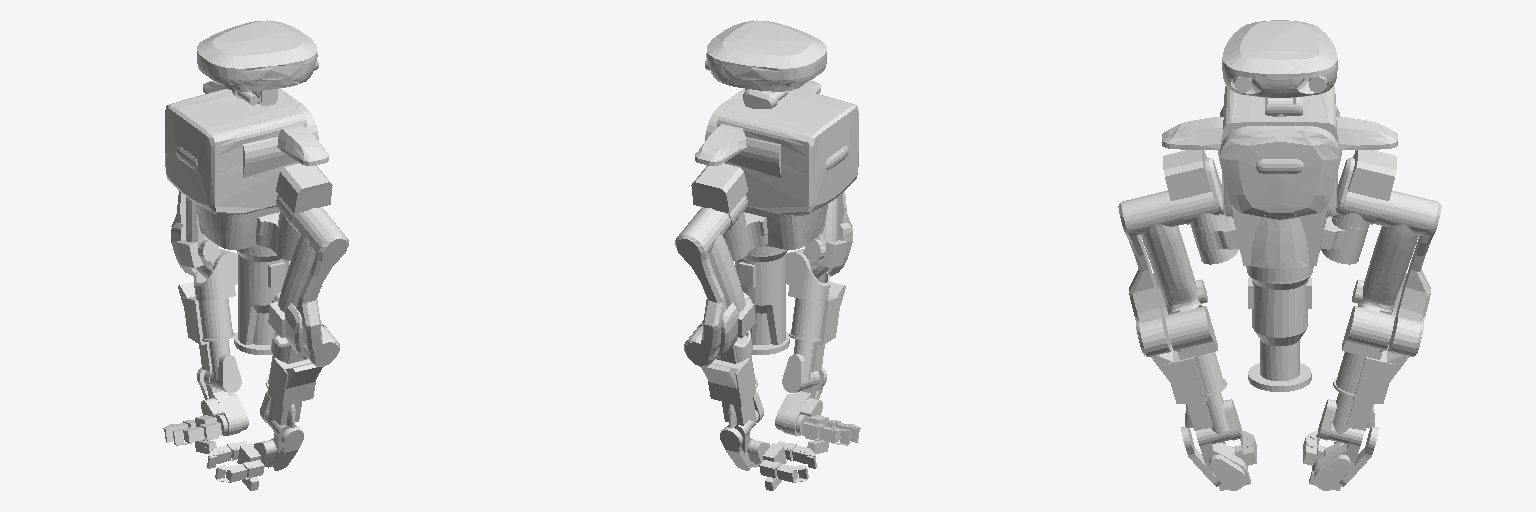
--- What the picture shows (computed from the rendered views, not written in the file) ---
Views: 3 orthographic renders of the robot side by side, from view 1: azimuth 30°, elevation 25°; view 2: azimuth 150°, elevation 25°; view 3: azimuth 270°, elevation 25°.
Robot: HiroNX — 24 links, 23 joints (23 revolute); root link WAIST; default pose: every joint at zero.
Visible links, largest first — view 1: CHEST_JOINT0_Link, HEAD_JOINT1_Link, RARM_JOINT1_Link, WAIST, LARM_JOINT2_Link, RARM_JOINT0_Link, RARM_JOINT2_Link, LARM_JOINT1_Link, LARM_JOINT4_Link, LARM_JOINT3_Link, RARM_JOINT4_Link, RARM_JOINT3_Link (+2 smaller); view 2: CHEST_JOINT0_Link, LARM_JOINT1_Link, HEAD_JOINT1_Link, WAIST, RARM_JOINT2_Link, LARM_JOINT0_Link, LARM_JOINT2_Link, RARM_JOINT1_Link, RARM_JOINT4_Link, RARM_JOINT3_Link, LARM_JOINT4_Link, LARM_JOINT3_Link (+3 smaller); view 3: CHEST_JOINT0_Link, LARM_JOINT1_Link, RARM_JOINT1_Link, HEAD_JOINT1_Link, WAIST, LARM_JOINT0_Link, RARM_JOINT0_Link, LARM_JOINT2_Link, RARM_JOINT2_Link, LARM_JOINT4_Link, RARM_JOINT4_Link, LARM_JOINT3_Link (+2 smaller).
Boxes of the visible links, <box> form: CHEST_JOINT0_Link: <box>165,80,328,260</box>; HEAD_JOINT1_Link: <box>197,20,318,106</box>; RARM_JOINT1_Link: <box>268,207,348,366</box>; WAIST: <box>234,250,288,354</box>; LARM_JOINT2_Link: <box>178,252,237,344</box>; RARM_JOINT0_Link: <box>276,163,332,239</box>; RARM_JOINT2_Link: <box>268,330,322,405</box>; LARM_JOINT1_Link: <box>171,191,229,278</box>; LARM_JOINT4_Link: <box>197,367,248,435</box>; LARM_JOINT3_Link: <box>199,332,241,392</box>; RARM_JOINT4_Link: <box>254,423,303,470</box>; RARM_JOINT3_Link: <box>260,377,301,430</box>; CHEST_JOINT0_Link: <box>695,80,858,260</box>; LARM_JOINT1_Link: <box>675,207,755,366</box>; HEAD_JOINT1_Link: <box>705,20,826,91</box>; WAIST: <box>735,250,789,354</box>; RARM_JOINT2_Link: <box>786,252,845,344</box>; LARM_JOINT0_Link: <box>691,163,747,239</box>; LARM_JOINT2_Link: <box>701,330,755,405</box>; RARM_JOINT1_Link: <box>794,191,852,278</box>; RARM_JOINT4_Link: <box>775,367,826,435</box>; RARM_JOINT3_Link: <box>782,332,824,392</box>; LARM_JOINT4_Link: <box>720,423,769,470</box>; LARM_JOINT3_Link: <box>722,377,763,430</box>; CHEST_JOINT0_Link: <box>1162,86,1397,281</box>; LARM_JOINT1_Link: <box>1349,190,1441,356</box>; RARM_JOINT1_Link: <box>1118,190,1210,356</box>; HEAD_JOINT1_Link: <box>1222,20,1337,114</box>; WAIST: <box>1247,272,1312,391</box>; LARM_JOINT0_Link: <box>1333,150,1396,238</box>; RARM_JOINT0_Link: <box>1163,150,1226,238</box>; LARM_JOINT2_Link: <box>1336,306,1408,403</box>; RARM_JOINT2_Link: <box>1151,306,1223,403</box>; LARM_JOINT4_Link: <box>1313,426,1378,490</box>; RARM_JOINT4_Link: <box>1181,426,1246,490</box>; LARM_JOINT3_Link: <box>1317,379,1374,443</box>.
Bounding box of the posed robot: 0.2867 × 0.6096 × 0.9692 m (x, y, z).
Meshes: 24 distinct files referenced, 24 mesh visuals loaded (24 Collada DAE).

The robot description file, URDF, robot "HiroNX":
<?xml version="1.0"?>
<robot name="HiroNX"
       xmlns:xi="http://www.w3.org/2001/XInclude"
       xmlns:gazebo="http://playerstage.sourceforge.net/gazebo/xmlschema/#gz"
       xmlns:model="http://playerstage.sourceforge.net/gazebo/xmlschema/#model"
       xmlns:sensor="http://playerstage.sourceforge.net/gazebo/xmlschema/#sensor"
       xmlns:body="http://playerstage.sourceforge.net/gazebo/xmlschema/#body"
       xmlns:geom="http://playerstage.sourceforge.net/gazebo/xmlschema/#geom"
       xmlns:joint="http://playerstage.sourceforge.net/gazebo/xmlschema/#joint"
       xmlns:interface="http://playerstage.sourceforge.net/gazebo/xmlschema/#interface"
       xmlns:rendering="http://playerstage.sourceforge.net/gazebo/xmlschema/#rendering"
       xmlns:renderable="http://playerstage.sourceforge.net/gazebo/xmlschema/#renderable"
       xmlns:controller="http://playerstage.sourceforge.net/gazebo/xmlschema/#controller"
       xmlns:physics="http://playerstage.sourceforge.net/gazebo/xmlschema/#physics">
  <link name="WAIST">
    <visual>
      <origin xyz="0 0 0" rpy="0 -0 0"/>
      <geometry>
        <mesh filename="package://hironx_moveit_config/models/meshes/WAIST_mesh.dae" scale="1 1 1" />
      </geometry>
    </visual>
    <collision>
      <origin xyz="0 0 0" rpy="0 -0 0"/>
      <geometry>
        <mesh filename="package://hironx_moveit_config/models/meshes/WAIST_mesh.dae" scale="1 1 1" />
      </geometry>
    </collision>
    <inertial>
      <mass value="0" />
      <origin xyz="0 0 0" rpy="0 -0 0"/>
      <inertia ixx="0" ixy="0" ixz="0" iyy="0" iyz="0" izz="0"/>
    </inertial>
  </link>
  <link name="CHEST_JOINT0_Link">
    <visual>
      <origin xyz="0 0 0" rpy="0 -0 0"/>
      <geometry>
        <mesh filename="package://hironx_moveit_config/models/meshes/CHEST_JOINT0_Link_mesh.dae" scale="1 1 1" />
      </geometry>
    </visual>
    <collision>
      <origin xyz="0 0 0" rpy="0 -0 0"/>
      <geometry>
        <mesh filename="package://hironx_moveit_config/models/meshes/CHEST_JOINT0_Link_mesh.dae" scale="1 1 1" />
      </geometry>
    </collision>
    <inertial>
      <mass value="0" />
      <origin xyz="0 0 0" rpy="0 -0 0"/>
      <inertia ixx="0" ixy="0" ixz="0" iyy="0" iyz="0" izz="0"/>
    </inertial>
  </link>
  <link name="HEAD_JOINT0_Link">
    <visual>
      <origin xyz="0 0 0.5695" rpy="0 -0 0"/>
      <geometry>
        <mesh filename="package://hironx_moveit_config/models/meshes/HEAD_JOINT0_Link_mesh.dae" scale="1 1 1" />
      </geometry>
    </visual>
    <collision>
      <origin xyz="0 0 0.5695" rpy="0 -0 0"/>
      <geometry>
        <mesh filename="package://hironx_moveit_config/models/meshes/HEAD_JOINT0_Link_mesh.dae" scale="1 1 1" />
      </geometry>
    </collision>
    <inertial>
      <mass value="0.317929" />
      <origin xyz="-2.292e-05 0.00547848 -0.00784016" rpy="0 -0 0"/>
      <inertia ixx="0" ixy="0" ixz="0" iyy="0" iyz="0" izz="0"/>
    </inertial>
  </link>
  <link name="HEAD_JOINT1_Link">
    <visual>
      <origin xyz="0 0 0" rpy="0 -0 0"/>
      <geometry>
        <mesh filename="package://hironx_moveit_config/models/meshes/HEAD_JOINT1_Link_mesh.dae" scale="1 1 1" />
      </geometry>
    </visual>
    <collision>
      <origin xyz="0 0 0" rpy="0 -0 0"/>
      <geometry>
        <mesh filename="package://hironx_moveit_config/models/meshes/HEAD_JOINT1_Link_mesh.dae" scale="1 1 1" />
      </geometry>
    </collision>
    <inertial>
      <mass value="0.0808593" />
      <origin xyz="5.02e-06 -0.0166777 0.0163153" rpy="0 -0 0"/>
      <inertia ixx="0" ixy="0" ixz="0" iyy="0" iyz="0" izz="0"/>
    </inertial>
  </link>
  <link name="LARM_JOINT0_Link">
    <visual>
      <origin xyz="0 0.145 0.370296" rpy="-0.261799 0 0"/>
      <geometry>
        <mesh filename="package://hironx_moveit_config/models/meshes/LARM_JOINT0_Link_mesh.dae" scale="1 1 1" />
      </geometry>
    </visual>
    <collision>
      <origin xyz="0 0.145 0.370296" rpy="-0.261799 0 0"/>
      <geometry>
        <mesh filename="package://hironx_moveit_config/models/meshes/LARM_JOINT0_Link_mesh.dae" scale="1 1 1" />
      </geometry>
    </collision>
    <inertial>
      <mass value="1.32626" />
      <origin xyz="-0.00226388 -0.00521383 0.0156081" rpy="0 -0 0"/>
      <inertia ixx="0" ixy="0" ixz="0" iyy="0" iyz="0" izz="0"/>
    </inertial>
  </link>
  <link name="LARM_JOINT1_Link">
    <visual>
      <origin xyz="0 0 0" rpy="0 -0 0"/>
      <geometry>
        <mesh filename="package://hironx_moveit_config/models/meshes/LARM_JOINT1_Link_mesh.dae" scale="1 1 1" />
      </geometry>
    </visual>
    <collision>
      <origin xyz="0 0 0" rpy="0 -0 0"/>
      <geometry>
        <mesh filename="package://hironx_moveit_config/models/meshes/LARM_JOINT1_Link_mesh.dae" scale="1 1 1" />
      </geometry>
    </collision>
    <inertial>
      <mass value="1.14898" />
      <origin xyz="-5.236e-05 0.0583134 -0.107061" rpy="0 -0 0"/>
      <inertia ixx="0" ixy="0" ixz="0" iyy="0" iyz="0" izz="0"/>
    </inertial>
  </link>
  <link name="LARM_JOINT2_Link">
    <visual>
      <origin xyz="0 0.095 -0.25" rpy="0 -0 0"/>
      <geometry>
        <mesh filename="package://hironx_moveit_config/models/meshes/LARM_JOINT2_Link_mesh.dae" scale="1 1 1" />
      </geometry>
    </visual>
    <collision>
      <origin xyz="0 0.095 -0.25" rpy="0 -0 0"/>
      <geometry>
        <mesh filename="package://hironx_moveit_config/models/meshes/LARM_JOINT2_Link_mesh.dae" scale="1 1 1" />
      </geometry>
    </collision>
    <inertial>
      <mass value="0.577518" />
      <origin xyz="-2.254e-05 0.00167107 -0.0715116" rpy="0 -0 0"/>
      <inertia ixx="0" ixy="0" ixz="0" iyy="0" iyz="0" izz="0"/>
    </inertial>
  </link>
  <link name="LARM_JOINT3_Link">
    <visual>
      <origin xyz="-0.03 0 0" rpy="0 -0 0"/>
      <geometry>
        <mesh filename="package://hironx_moveit_config/models/meshes/LARM_JOINT3_Link_mesh.dae" scale="1 1 1" />
      </geometry>
    </visual>
    <collision>
      <origin xyz="-0.03 0 0" rpy="0 -0 0"/>
      <geometry>
        <mesh filename="package://hironx_moveit_config/models/meshes/LARM_JOINT3_Link_mesh.dae" scale="1 1 1" />
      </geometry>
    </collision>
    <inertial>
      <mass value="0.457418" />
      <origin xyz="-1.788e-05 -0.00395812 -0.202731" rpy="0 -0 0"/>
      <inertia ixx="0" ixy="0" ixz="0" iyy="0" iyz="0" izz="0"/>
    </inertial>
  </link>
  <link name="LARM_JOINT4_Link">
    <visual>
      <origin xyz="0 0 -0.235" rpy="0 -0 0"/>
      <geometry>
        <mesh filename="package://hironx_moveit_config/models/meshes/LARM_JOINT4_Link_mesh.dae" scale="1 1 1" />
      </geometry>
    </visual>
    <collision>
      <origin xyz="0 0 -0.235" rpy="0 -0 0"/>
      <geometry>
        <mesh filename="package://hironx_moveit_config/models/meshes/LARM_JOINT4_Link_mesh.dae" scale="1 1 1" />
      </geometry>
    </collision>
    <inertial>
      <mass value="0.418434" />
      <origin xyz="0.00243131 0.00379733 -0.0577036" rpy="0 -0 0"/>
      <inertia ixx="0" ixy="0" ixz="0" iyy="0" iyz="0" izz="0"/>
    </inertial>
  </link>
  <link name="LARM_JOINT5_Link">
    <visual>
      <origin xyz="-0.04 0 -0.09" rpy="0 -0 0"/>
      <geometry>
        <mesh filename="package://hironx_moveit_config/models/meshes/LARM_JOINT5_Link_mesh.dae" scale="1 1 1" />
      </geometry>
    </visual>
    <collision>
      <origin xyz="-0.04 0 -0.09" rpy="0 -0 0"/>
      <geometry>
        <mesh filename="package://hironx_moveit_config/models/meshes/LARM_JOINT5_Link_mesh.dae" scale="1 1 1" />
      </geometry>
    </collision>
    <inertial>
      <mass value="1.05156" />
      <origin xyz="-0.048476 -3.2e-06 -0.0388988" rpy="0 -0 0"/>
      <inertia ixx="0" ixy="0" ixz="0" iyy="0" iyz="0" izz="0"/>
    </inertial>
  </link>
  <link name="LHAND_JOINT0_Link">
    <visual>
      <origin xyz="-0.0299 -0.033 0" rpy="0 -0 0"/>
      <geometry>
        <mesh filename="package://hironx_moveit_config/models/meshes/LHAND_JOINT0_Link_mesh.dae" scale="1 1 1" />
      </geometry>
    </visual>
    <collision>
      <origin xyz="-0.0299 -0.033 0" rpy="0 -0 0"/>
      <geometry>
        <mesh filename="package://hironx_moveit_config/models/meshes/LHAND_JOINT0_Link_mesh.dae" scale="1 1 1" />
      </geometry>
    </collision>
    <inertial>
      <mass value="0.01" />
      <origin xyz="0 0 0" rpy="0 -0 0"/>
      <inertia ixx="0" ixy="0" ixz="0" iyy="0" iyz="0" izz="0"/>
    </inertial>
  </link>
  <link name="LHAND_JOINT1_Link">
    <visual>
      <origin xyz="-0.0419 0 0" rpy="0 -0 0"/>
      <geometry>
        <mesh filename="package://hironx_moveit_config/models/meshes/LHAND_JOINT1_Link_mesh.dae" scale="1 1 1" />
      </geometry>
    </visual>
    <collision>
      <origin xyz="-0.0419 0 0" rpy="0 -0 0"/>
      <geometry>
        <mesh filename="package://hironx_moveit_config/models/meshes/LHAND_JOINT1_Link_mesh.dae" scale="1 1 1" />
      </geometry>
    </collision>
    <inertial>
      <mass value="0.01" />
      <origin xyz="0 0 0" rpy="0 -0 0"/>
      <inertia ixx="0" ixy="0" ixz="0" iyy="0" iyz="0" izz="0"/>
    </inertial>
  </link>
  <link name="LHAND_JOINT2_Link">
    <visual>
      <origin xyz="-0.0299 0.033 0" rpy="0 -0 0"/>
      <geometry>
        <mesh filename="package://hironx_moveit_config/models/meshes/LHAND_JOINT2_Link_mesh.dae" scale="1 1 1" />
      </geometry>
    </visual>
    <collision>
      <origin xyz="-0.0299 0.033 0" rpy="0 -0 0"/>
      <geometry>
        <mesh filename="package://hironx_moveit_config/models/meshes/LHAND_JOINT2_Link_mesh.dae" scale="1 1 1" />
      </geometry>
    </collision>
    <inertial>
      <mass value="0.01" />
      <origin xyz="0 0 0" rpy="0 -0 0"/>
      <inertia ixx="0" ixy="0" ixz="0" iyy="0" iyz="0" izz="0"/>
    </inertial>
  </link>
  <link name="LHAND_JOINT3_Link">
    <visual>
      <origin xyz="-0.0419 0 0" rpy="0 -0 0"/>
      <geometry>
        <mesh filename="package://hironx_moveit_config/models/meshes/LHAND_JOINT3_Link_mesh.dae" scale="1 1 1" />
      </geometry>
    </visual>
    <collision>
      <origin xyz="-0.0419 0 0" rpy="0 -0 0"/>
      <geometry>
        <mesh filename="package://hironx_moveit_config/models/meshes/LHAND_JOINT3_Link_mesh.dae" scale="1 1 1" />
      </geometry>
    </collision>
    <inertial>
      <mass value="0.01" />
      <origin xyz="0 0 0" rpy="0 -0 0"/>
      <inertia ixx="0" ixy="0" ixz="0" iyy="0" iyz="0" izz="0"/>
    </inertial>
  </link>
  <link name="RARM_JOINT0_Link">
    <visual>
      <origin xyz="0 -0.145 0.370296" rpy="0.261799 -0 0"/>
      <geometry>
        <mesh filename="package://hironx_moveit_config/models/meshes/RARM_JOINT0_Link_mesh.dae" scale="1 1 1" />
      </geometry>
    </visual>
    <collision>
      <origin xyz="0 -0.145 0.370296" rpy="0.261799 -0 0"/>
      <geometry>
        <mesh filename="package://hironx_moveit_config/models/meshes/RARM_JOINT0_Link_mesh.dae" scale="1 1 1" />
      </geometry>
    </collision>
    <inertial>
      <mass value="1.32626" />
      <origin xyz="-0.00226388 0.00521383 0.0156081" rpy="0 -0 0"/>
      <inertia ixx="0" ixy="0" ixz="0" iyy="0" iyz="0" izz="0"/>
    </inertial>
  </link>
  <link name="RARM_JOINT1_Link">
    <visual>
      <origin xyz="0 0 0" rpy="0 -0 0"/>
      <geometry>
        <mesh filename="package://hironx_moveit_config/models/meshes/RARM_JOINT1_Link_mesh.dae" scale="1 1 1" />
      </geometry>
    </visual>
    <collision>
      <origin xyz="0 0 0" rpy="0 -0 0"/>
      <geometry>
        <mesh filename="package://hironx_moveit_config/models/meshes/RARM_JOINT1_Link_mesh.dae" scale="1 1 1" />
      </geometry>
    </collision>
    <inertial>
      <mass value="1.14898" />
      <origin xyz="-5.236e-05 -0.0583134 -0.107061" rpy="0 -0 0"/>
      <inertia ixx="0" ixy="0" ixz="0" iyy="0" iyz="0" izz="0"/>
    </inertial>
  </link>
  <link name="RARM_JOINT2_Link">
    <visual>
      <origin xyz="0 -0.095 -0.25" rpy="0 -0 0"/>
      <geometry>
        <mesh filename="package://hironx_moveit_config/models/meshes/RARM_JOINT2_Link_mesh.dae" scale="1 1 1" />
      </geometry>
    </visual>
    <collision>
      <origin xyz="0 -0.095 -0.25" rpy="0 -0 0"/>
      <geometry>
        <mesh filename="package://hironx_moveit_config/models/meshes/RARM_JOINT2_Link_mesh.dae" scale="1 1 1" />
      </geometry>
    </collision>
    <inertial>
      <mass value="0.577518" />
      <origin xyz="-2.254e-05 -0.00167107 -0.0715116" rpy="0 -0 0"/>
      <inertia ixx="0" ixy="0" ixz="0" iyy="0" iyz="0" izz="0"/>
    </inertial>
  </link>
  <link name="RARM_JOINT3_Link">
    <visual>
      <origin xyz="-0.03 0 0" rpy="0 -0 0"/>
      <geometry>
        <mesh filename="package://hironx_moveit_config/models/meshes/RARM_JOINT3_Link_mesh.dae" scale="1 1 1" />
      </geometry>
    </visual>
    <collision>
      <origin xyz="-0.03 0 0" rpy="0 -0 0"/>
      <geometry>
        <mesh filename="package://hironx_moveit_config/models/meshes/RARM_JOINT3_Link_mesh.dae" scale="1 1 1" />
      </geometry>
    </collision>
    <inertial>
      <mass value="0.457418" />
      <origin xyz="-1.788e-05 0.00395812 -0.202731" rpy="0 -0 0"/>
      <inertia ixx="0" ixy="0" ixz="0" iyy="0" iyz="0" izz="0"/>
    </inertial>
  </link>
  <link name="RARM_JOINT4_Link">
    <visual>
      <origin xyz="0 0 -0.235" rpy="0 -0 0"/>
      <geometry>
        <mesh filename="package://hironx_moveit_config/models/meshes/RARM_JOINT4_Link_mesh.dae" scale="1 1 1" />
      </geometry>
    </visual>
    <collision>
      <origin xyz="0 0 -0.235" rpy="0 -0 0"/>
      <geometry>
        <mesh filename="package://hironx_moveit_config/models/meshes/RARM_JOINT4_Link_mesh.dae" scale="1 1 1" />
      </geometry>
    </collision>
    <inertial>
      <mass value="0.418434" />
      <origin xyz="0.00243131 -0.00379733 -0.0577036" rpy="0 -0 0"/>
      <inertia ixx="0" ixy="0" ixz="0" iyy="0" iyz="0" izz="0"/>
    </inertial>
  </link>
  <link name="RARM_JOINT5_Link">
    <visual>
      <origin xyz="-0.04 0 -0.09" rpy="0 -0 0"/>
      <geometry>
        <mesh filename="package://hironx_moveit_config/models/meshes/RARM_JOINT5_Link_mesh.dae" scale="1 1 1" />
      </geometry>
    </visual>
    <collision>
      <origin xyz="-0.04 0 -0.09" rpy="0 -0 0"/>
      <geometry>
        <mesh filename="package://hironx_moveit_config/models/meshes/RARM_JOINT5_Link_mesh.dae" scale="1 1 1" />
      </geometry>
    </collision>
    <inertial>
      <mass value="1.05156" />
      <origin xyz="-0.048476 3.2e-06 -0.0388988" rpy="0 -0 0"/>
      <inertia ixx="0" ixy="0" ixz="0" iyy="0" iyz="0" izz="0"/>
    </inertial>
  </link>
  <link name="RHAND_JOINT0_Link">
    <visual>
      <origin xyz="-0.0299 -0.033 0" rpy="0 -0 0"/>
      <geometry>
        <mesh filename="package://hironx_moveit_config/models/meshes/RHAND_JOINT0_Link_mesh.dae" scale="1 1 1" />
      </geometry>
    </visual>
    <collision>
      <origin xyz="-0.0299 -0.033 0" rpy="0 -0 0"/>
      <geometry>
        <mesh filename="package://hironx_moveit_config/models/meshes/RHAND_JOINT0_Link_mesh.dae" scale="1 1 1" />
      </geometry>
    </collision>
    <inertial>
      <mass value="0.01" />
      <origin xyz="0 0 0" rpy="0 -0 0"/>
      <inertia ixx="0" ixy="0" ixz="0" iyy="0" iyz="0" izz="0"/>
    </inertial>
  </link>
  <link name="RHAND_JOINT1_Link">
    <visual>
      <origin xyz="-0.0419 0 0" rpy="0 -0 0"/>
      <geometry>
        <mesh filename="package://hironx_moveit_config/models/meshes/RHAND_JOINT1_Link_mesh.dae" scale="1 1 1" />
      </geometry>
    </visual>
    <collision>
      <origin xyz="-0.0419 0 0" rpy="0 -0 0"/>
      <geometry>
        <mesh filename="package://hironx_moveit_config/models/meshes/RHAND_JOINT1_Link_mesh.dae" scale="1 1 1" />
      </geometry>
    </collision>
    <inertial>
      <mass value="0.01" />
      <origin xyz="0 0 0" rpy="0 -0 0"/>
      <inertia ixx="0" ixy="0" ixz="0" iyy="0" iyz="0" izz="0"/>
    </inertial>
  </link>
  <link name="RHAND_JOINT2_Link">
    <visual>
      <origin xyz="-0.0299 0.033 0" rpy="0 -0 0"/>
      <geometry>
        <mesh filename="package://hironx_moveit_config/models/meshes/RHAND_JOINT2_Link_mesh.dae" scale="1 1 1" />
      </geometry>
    </visual>
    <collision>
      <origin xyz="-0.0299 0.033 0" rpy="0 -0 0"/>
      <geometry>
        <mesh filename="package://hironx_moveit_config/models/meshes/RHAND_JOINT2_Link_mesh.dae" scale="1 1 1" />
      </geometry>
    </collision>
    <inertial>
      <mass value="0.01" />
      <origin xyz="0 0 0" rpy="0 -0 0"/>
      <inertia ixx="0" ixy="0" ixz="0" iyy="0" iyz="0" izz="0"/>
    </inertial>
  </link>
  <link name="RHAND_JOINT3_Link">
    <visual>
      <origin xyz="-0.0419 0 0" rpy="0 -0 0"/>
      <geometry>
        <mesh filename="package://hironx_moveit_config/models/meshes/RHAND_JOINT3_Link_mesh.dae" scale="1 1 1" />
      </geometry>
    </visual>
    <collision>
      <origin xyz="-0.0419 0 0" rpy="0 -0 0"/>
      <geometry>
        <mesh filename="package://hironx_moveit_config/models/meshes/RHAND_JOINT3_Link_mesh.dae" scale="1 1 1" />
      </geometry>
    </collision>
    <inertial>
      <mass value="0.01" />
      <origin xyz="0 0 0" rpy="0 -0 0"/>
      <inertia ixx="0" ixy="0" ixz="0" iyy="0" iyz="0" izz="0"/>
    </inertial>
  </link>
  <joint name="CHEST_JOINT0" type="revolute">
    <parent link="WAIST"/>
    <child  link="CHEST_JOINT0_Link"/>
    <origin xyz="0 0 0" rpy="0 -0 0 "/>
    <axis   xyz="0 0 1"/>
    <limit lower="-2.844" upper="2.844" effort="100" velocity="0.5" />
    <dynamics damping="0.2" friction="0" />
  </joint>
  <joint name="HEAD_JOINT0" type="revolute">
    <parent link="CHEST_JOINT0_Link"/>
    <child  link="HEAD_JOINT0_Link"/>
    <origin xyz="0 0 0.5695" rpy="0 -0 0 "/>
    <axis   xyz="0 0 1"/>
    <limit lower="-1.22173" upper="1.22173" effort="100" velocity="0.5" />
    <dynamics damping="0.2" friction="0" />
  </joint>
  <joint name="HEAD_JOINT1" type="revolute">
    <parent link="HEAD_JOINT0_Link"/>
    <child  link="HEAD_JOINT1_Link"/>
    <origin xyz="0 0 0" rpy="0 -0 0 "/>
    <axis   xyz="0 1 0"/>
    <limit lower="-0.349066" upper="1.22173" effort="100" velocity="0.5" />
    <dynamics damping="0.2" friction="0" />
  </joint>
  <joint name="LARM_JOINT0" type="revolute">
    <parent link="CHEST_JOINT0_Link"/>
    <child  link="LARM_JOINT0_Link"/>
    <origin xyz="0 0.145 0.370296" rpy="-0.261799 0 0 "/>
    <axis   xyz="0 0 1"/>
    <limit lower="-1.53589" upper="1.53589" effort="100" velocity="0.5" />
    <dynamics damping="0.2" friction="0" />
  </joint>
  <joint name="LARM_JOINT1" type="revolute">
    <parent link="LARM_JOINT0_Link"/>
    <child  link="LARM_JOINT1_Link"/>
    <origin xyz="0 0 0" rpy="0 -0 0 "/>
    <axis   xyz="0 1 0"/>
    <limit lower="-2.44346" upper="1.0472" effort="100" velocity="0.5" />
    <dynamics damping="0.2" friction="0" />
  </joint>
  <joint name="LARM_JOINT2" type="revolute">
    <parent link="LARM_JOINT1_Link"/>
    <child  link="LARM_JOINT2_Link"/>
    <origin xyz="0 0.095 -0.25" rpy="0 -0 0 "/>
    <axis   xyz="0 1 0"/>
    <limit lower="-2.75762" upper="0" effort="100" velocity="0.5" />
    <dynamics damping="0.2" friction="0" />
  </joint>
  <joint name="LARM_JOINT3" type="revolute">
    <parent link="LARM_JOINT2_Link"/>
    <child  link="LARM_JOINT3_Link"/>
    <origin xyz="-0.03 0 0" rpy="0 -0 0 "/>
    <axis   xyz="0 0 1"/>
    <limit lower="-2.87979" upper="1.8326" effort="100" velocity="0.5" />
    <dynamics damping="0.2" friction="0" />
  </joint>
  <joint name="LARM_JOINT4" type="revolute">
    <parent link="LARM_JOINT3_Link"/>
    <child  link="LARM_JOINT4_Link"/>
    <origin xyz="0 0 -0.235" rpy="0 -0 0 "/>
    <axis   xyz="0 1 0"/>
    <limit lower="-1.74533" upper="1.74533" effort="100" velocity="0.5" />
    <dynamics damping="0.2" friction="0" />
  </joint>
  <joint name="LARM_JOINT5" type="revolute">
    <parent link="LARM_JOINT4_Link"/>
    <child  link="LARM_JOINT5_Link"/>
    <origin xyz="-0.04 0 -0.09" rpy="0 -0 0 "/>
    <axis   xyz="1 0 0"/>
    <limit lower="-2.84489" upper="2.84489" effort="100" velocity="0.5" />
    <dynamics damping="0.2" friction="0" />
  </joint>
  <joint name="LHAND_JOINT0" type="revolute">
    <parent link="LARM_JOINT5_Link"/>
    <child  link="LHAND_JOINT0_Link"/>
    <origin xyz="-0.0299 -0.033 0" rpy="0 -0 0 "/>
    <axis   xyz="0 0 1"/>
    <limit lower="-0.523599" upper="0.523599" effort="100" velocity="0.5" />
    <dynamics damping="0.2" friction="0" />
  </joint>
  <joint name="LHAND_JOINT1" type="revolute">
    <parent link="LHAND_JOINT0_Link"/>
    <child  link="LHAND_JOINT1_Link"/>
    <origin xyz="-0.0419 0 0" rpy="0 -0 0 "/>
    <axis   xyz="0 0 1"/>
    <limit lower="-0.523599" upper="0.523599" effort="100" velocity="0.5" />
    <dynamics damping="0.2" friction="0" />
  </joint>
  <joint name="LHAND_JOINT2" type="revolute">
    <parent link="LARM_JOINT5_Link"/>
    <child  link="LHAND_JOINT2_Link"/>
    <origin xyz="-0.0299 0.033 0" rpy="0 -0 0 "/>
    <axis   xyz="0 0 1"/>
    <limit lower="-0.523599" upper="0.523599" effort="100" velocity="0.5" />
    <dynamics damping="0.2" friction="0" />
  </joint>
  <joint name="LHAND_JOINT3" type="revolute">
    <parent link="LHAND_JOINT2_Link"/>
    <child  link="LHAND_JOINT3_Link"/>
    <origin xyz="-0.0419 0 0" rpy="0 -0 0 "/>
    <axis   xyz="0 0 1"/>
    <limit lower="-0.523599" upper="0.523599" effort="100" velocity="0.5" />
    <dynamics damping="0.2" friction="0" />
  </joint>
  <joint name="RARM_JOINT0" type="revolute">
    <parent link="CHEST_JOINT0_Link"/>
    <child  link="RARM_JOINT0_Link"/>
    <origin xyz="0 -0.145 0.370296" rpy="0.261799 -0 0 "/>
    <axis   xyz="0 0 1"/>
    <limit lower="-1.53589" upper="1.53589" effort="100" velocity="0.5" />
    <dynamics damping="0.2" friction="0" />
  </joint>
  <joint name="RARM_JOINT1" type="revolute">
    <parent link="RARM_JOINT0_Link"/>
    <child  link="RARM_JOINT1_Link"/>
    <origin xyz="0 0 0" rpy="0 -0 0 "/>
    <axis   xyz="0 1 0"/>
    <limit lower="-2.44346" upper="1.0472" effort="100" velocity="0.5" />
    <dynamics damping="0.2" friction="0" />
  </joint>
  <joint name="RARM_JOINT2" type="revolute">
    <parent link="RARM_JOINT1_Link"/>
    <child  link="RARM_JOINT2_Link"/>
    <origin xyz="0 -0.095 -0.25" rpy="0 -0 0 "/>
    <axis   xyz="0 1 0"/>
    <limit lower="-2.75762" upper="0" effort="100" velocity="0.5" />
    <dynamics damping="0.2" friction="0" />
  </joint>
  <joint name="RARM_JOINT3" type="revolute">
    <parent link="RARM_JOINT2_Link"/>
    <child  link="RARM_JOINT3_Link"/>
    <origin xyz="-0.03 0 0" rpy="0 -0 0 "/>
    <axis   xyz="0 0 1"/>
    <limit lower="-2.87979" upper="1.8326" effort="100" velocity="0.5" />
    <dynamics damping="0.2" friction="0" />
  </joint>
  <joint name="RARM_JOINT4" type="revolute">
    <parent link="RARM_JOINT3_Link"/>
    <child  link="RARM_JOINT4_Link"/>
    <origin xyz="0 0 -0.235" rpy="0 -0 0 "/>
    <axis   xyz="0 1 0"/>
    <limit lower="-1.74533" upper="1.74533" effort="100" velocity="0.5" />
    <dynamics damping="0.2" friction="0" />
  </joint>
  <joint name="RARM_JOINT5" type="revolute">
    <parent link="RARM_JOINT4_Link"/>
    <child  link="RARM_JOINT5_Link"/>
    <origin xyz="-0.04 0 -0.09" rpy="0 -0 0 "/>
    <axis   xyz="1 0 0"/>
    <limit lower="-2.84489" upper="2.84489" effort="100" velocity="0.5" />
    <dynamics damping="0.2" friction="0" />
  </joint>
  <joint name="RHAND_JOINT0" type="revolute">
    <parent link="RARM_JOINT5_Link"/>
    <child  link="RHAND_JOINT0_Link"/>
    <origin xyz="-0.0299 -0.033 0" rpy="0 -0 0 "/>
    <axis   xyz="0 0 1"/>
    <limit lower="-0.523599" upper="0.523599" effort="100" velocity="0.5" />
    <dynamics damping="0.2" friction="0" />
  </joint>
  <joint name="RHAND_JOINT1" type="revolute">
    <parent link="RHAND_JOINT0_Link"/>
    <child  link="RHAND_JOINT1_Link"/>
    <origin xyz="-0.0419 0 0" rpy="0 -0 0 "/>
    <axis   xyz="0 0 1"/>
    <limit lower="-0.523599" upper="0.523599" effort="100" velocity="0.5" />
    <dynamics damping="0.2" friction="0" />
  </joint>
  <joint name="RHAND_JOINT2" type="revolute">
    <parent link="RARM_JOINT5_Link"/>
    <child  link="RHAND_JOINT2_Link"/>
    <origin xyz="-0.0299 0.033 0" rpy="0 -0 0 "/>
    <axis   xyz="0 0 1"/>
    <limit lower="-0.523599" upper="0.523599" effort="100" velocity="0.5" />
    <dynamics damping="0.2" friction="0" />
  </joint>
  <joint name="RHAND_JOINT3" type="revolute">
    <parent link="RHAND_JOINT2_Link"/>
    <child  link="RHAND_JOINT3_Link"/>
    <origin xyz="-0.0419 0 0" rpy="0 -0 0 "/>
    <axis   xyz="0 0 1"/>
    <limit lower="-0.523599" upper="0.523599" effort="100" velocity="0.5" />
    <dynamics damping="0.2" friction="0" />
  </joint>
</robot>
